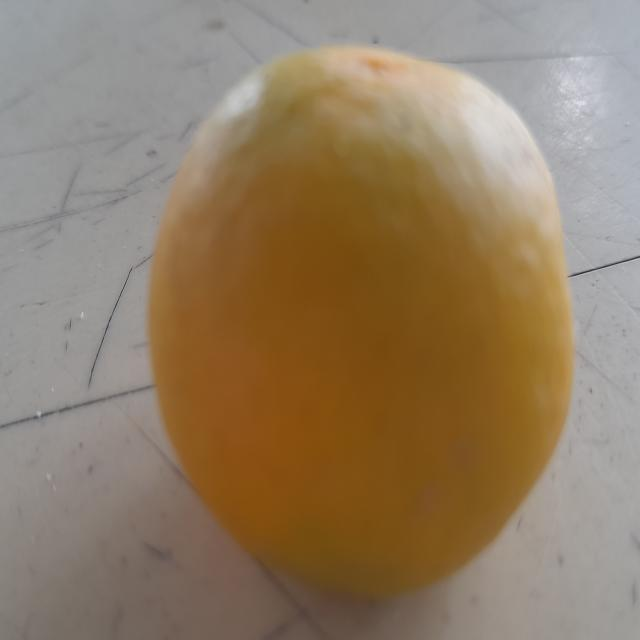greening: (150, 32, 578, 625)
